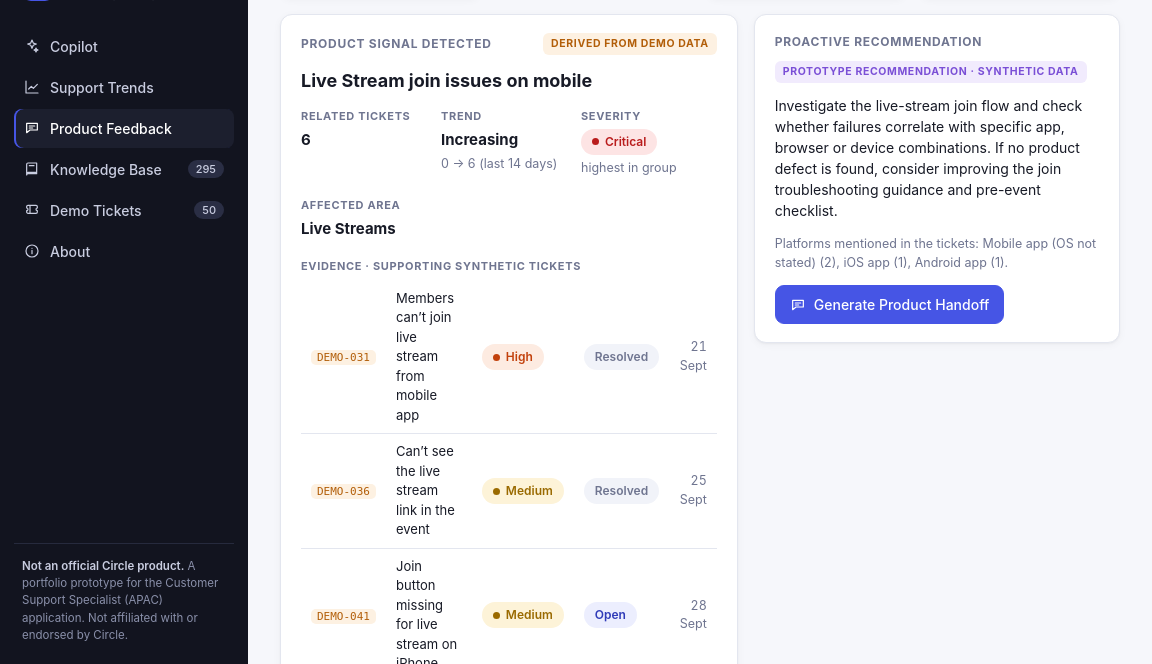
Test case: Product Feedback view › switching signals resets the generated handoff
Later steps or results of the test are not shown.
(page scrolled)
Click the button with test id "generate-handoff". click: coordinates (890, 304)
box: [775, 285, 1004, 324]
(page scrolled)
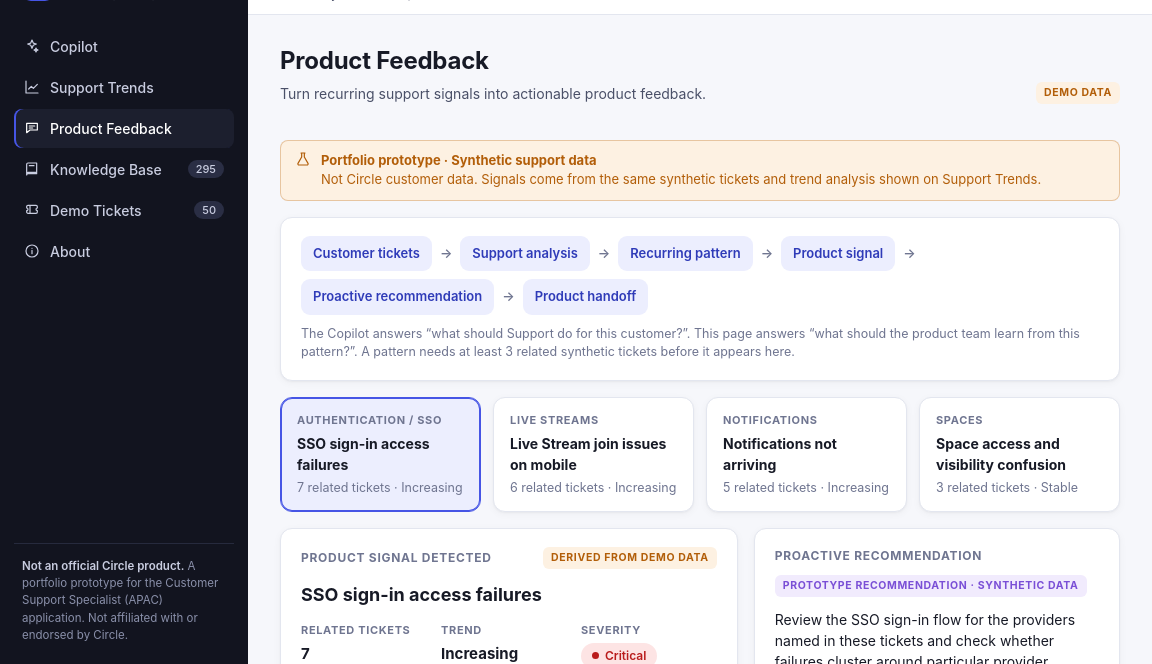
Expected: the heading "SSO sign-in access failures" is shown, [301, 584, 542, 605]
